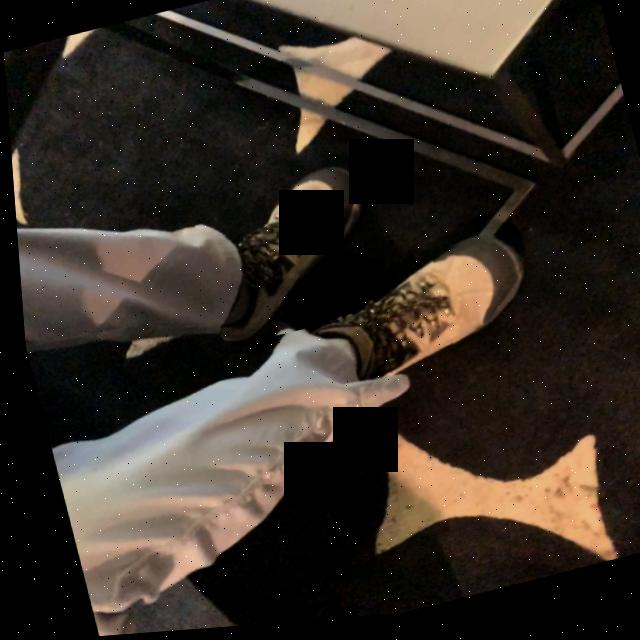shoe: (215, 171, 364, 348), (338, 246, 519, 385)
